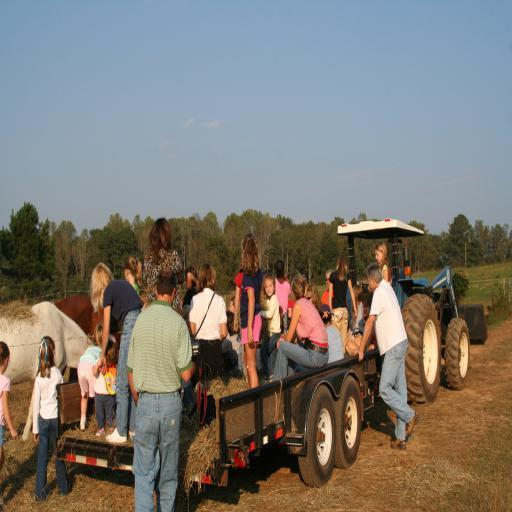horse: (0, 300, 96, 382), (55, 295, 95, 385)
